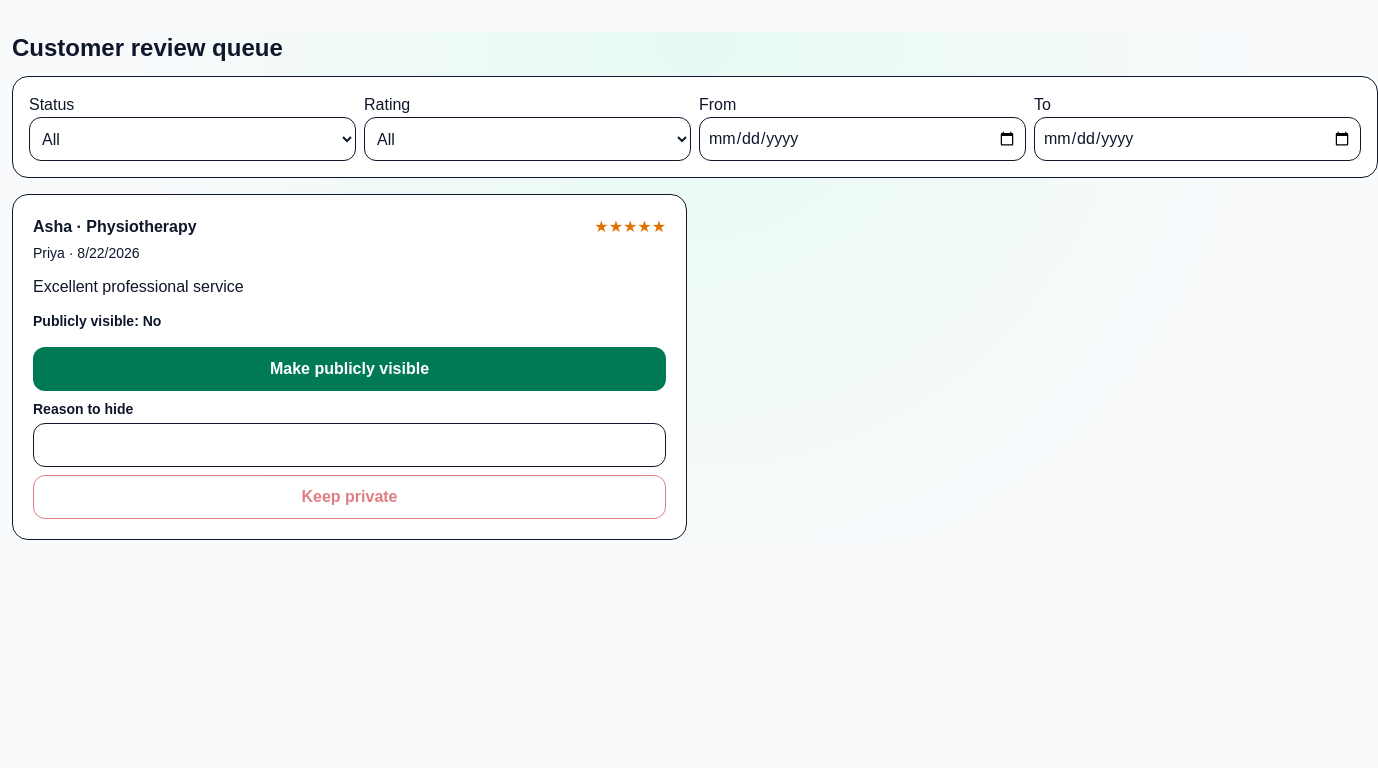
Test: customer reviews › lets an owner change public visibility while preserving review content
expect the text "Publicly visible: No" is shown: met, box [33, 313, 161, 329]
expect the button "Make publicly visible" is enabled: met, box [33, 347, 666, 391]
Type "Private information" into the field labelled "Reason to hide".
click(350, 445); type("Private information")  # box [33, 423, 666, 467]
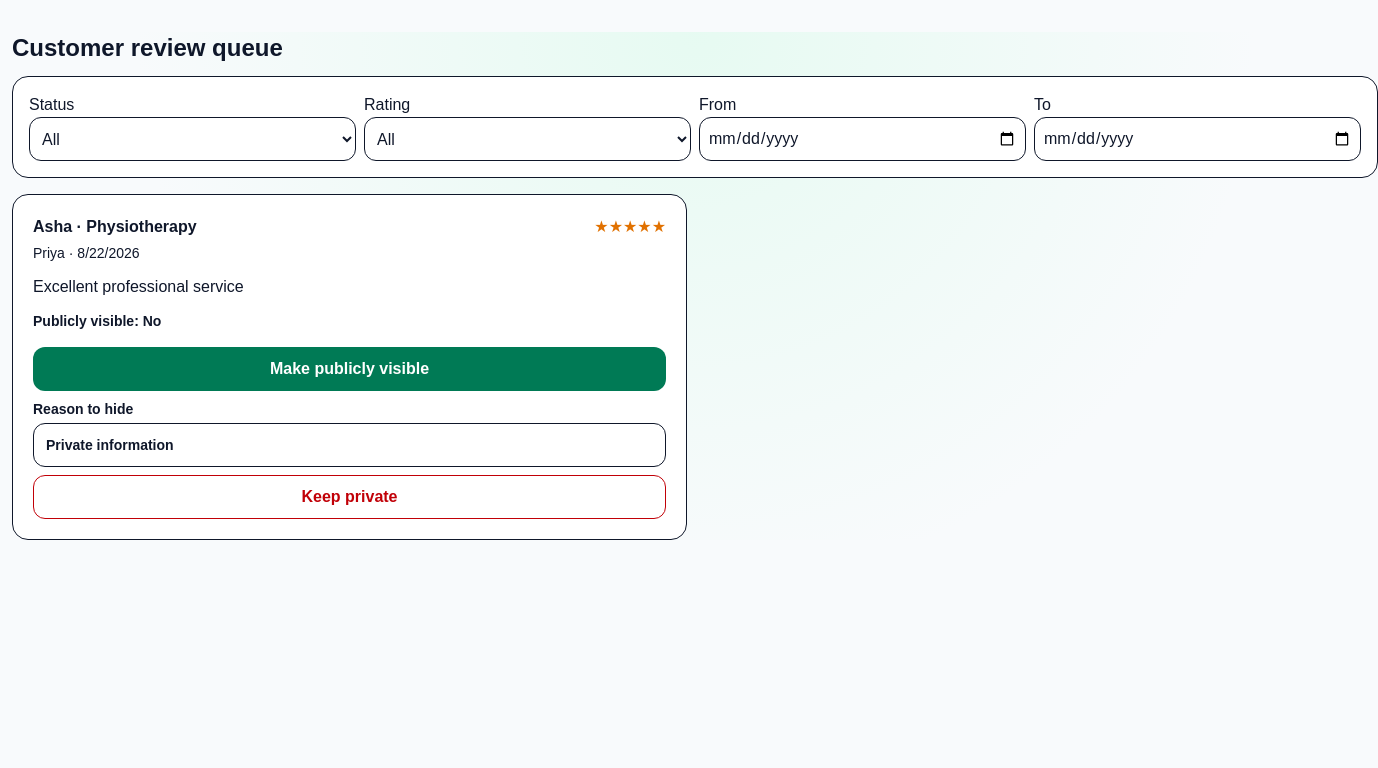
expect the button "Keep private" is enabled: met, box [33, 475, 666, 519]
